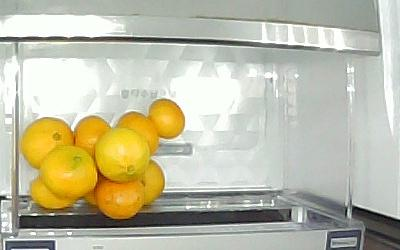tangerine: (40, 146, 97, 199), (96, 126, 148, 183), (20, 117, 74, 170), (73, 114, 110, 174), (95, 179, 147, 218), (114, 113, 160, 157), (28, 176, 79, 209), (148, 98, 184, 139), (137, 159, 164, 205)
